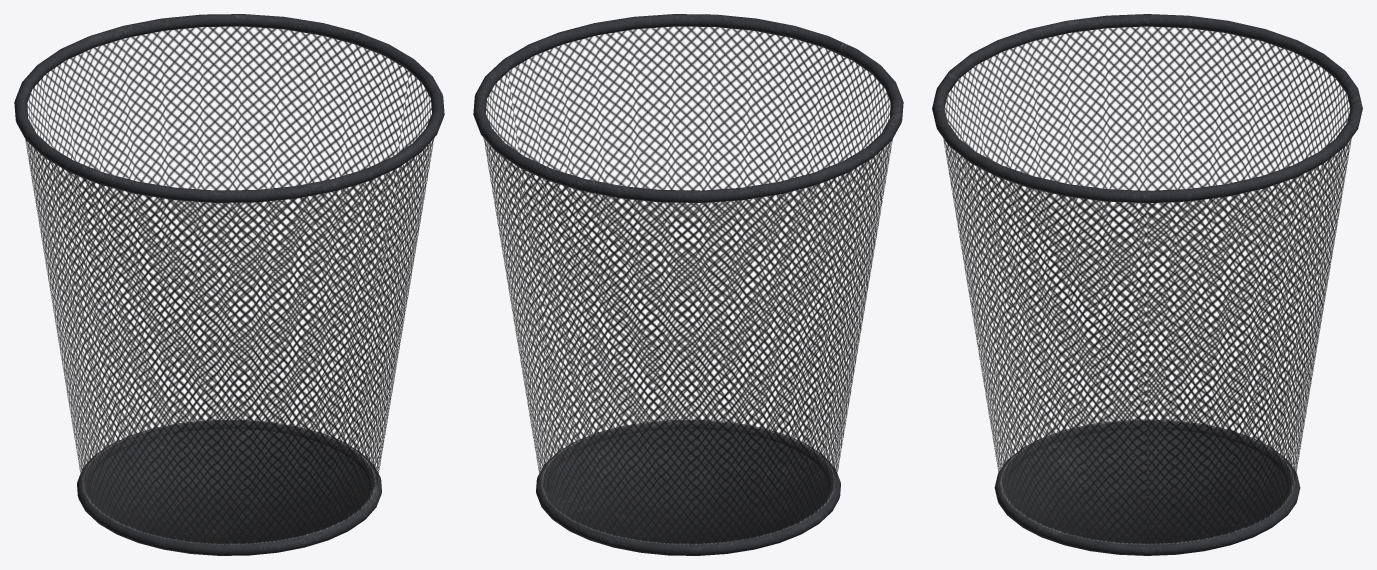
The model's file is trash_can.glb.
The picture shows the model from 3 angles, left to right: view 1: azimuth 30°, elevation 25°; view 2: azimuth 150°, elevation 25°; view 3: azimuth 270°, elevation 25°; orthographic projection.
Visible parts, largest first — view 1: SM_TrashCan; view 2: SM_TrashCan; view 3: SM_TrashCan.
Boxes of the visible parts, x1,y1,x2,y2 form: SM_TrashCan: (14, 14, 444, 555); SM_TrashCan: (473, 14, 903, 555); SM_TrashCan: (932, 14, 1362, 555).
Size of the model in its own units: 0.2678 by 0.2678 by 0.2678.
1 material, 1 textured.
